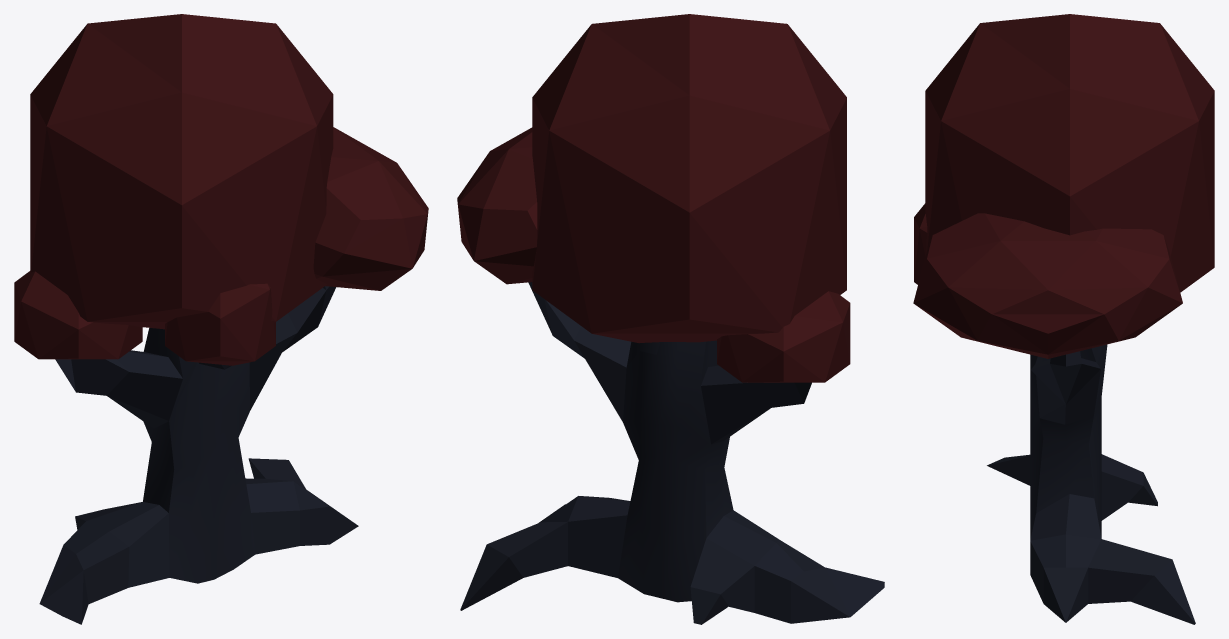
File: RedTree.FBX
3 renders of one model, left to right at view 1: azimuth 30°, elevation 25°; view 2: azimuth 150°, elevation 25°; view 3: azimuth 270°, elevation 25°, orthographic. The views are drawn at different scales.
Parts seen in each view (by area): view 1: GeoSphere002, Box001; view 2: GeoSphere002, Box001; view 3: GeoSphere002, Box001.
Boxes of the visible parts, x1,y1,x2,y2 form: GeoSphere002: (14,14,428,365); Box001: (39,286,358,624); GeoSphere002: (457,14,850,382); Box001: (460,282,884,624); GeoSphere002: (913,14,1214,358); Box001: (987,344,1195,624).
Bounding box in the file's own units: 113 × 167 × 84.46.
